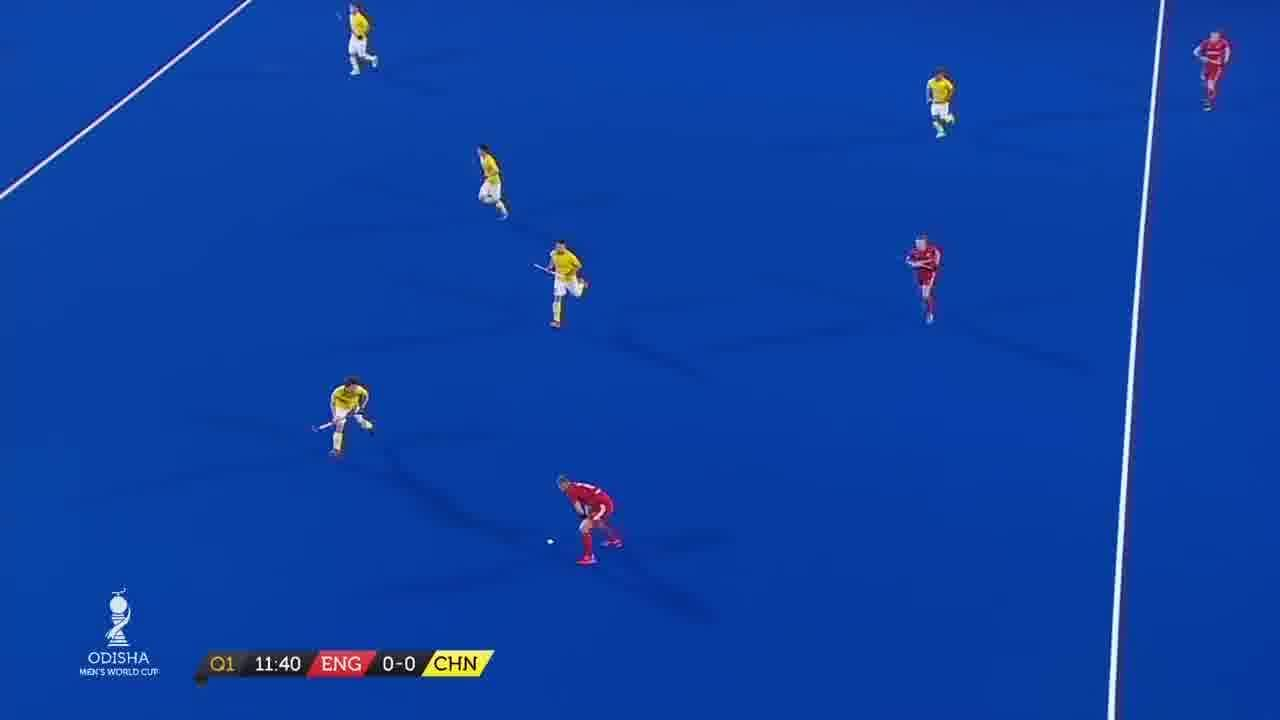ball: (542, 530, 566, 552)
